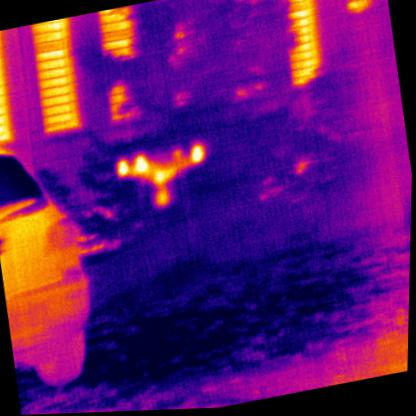drone: (112, 137, 213, 217)
